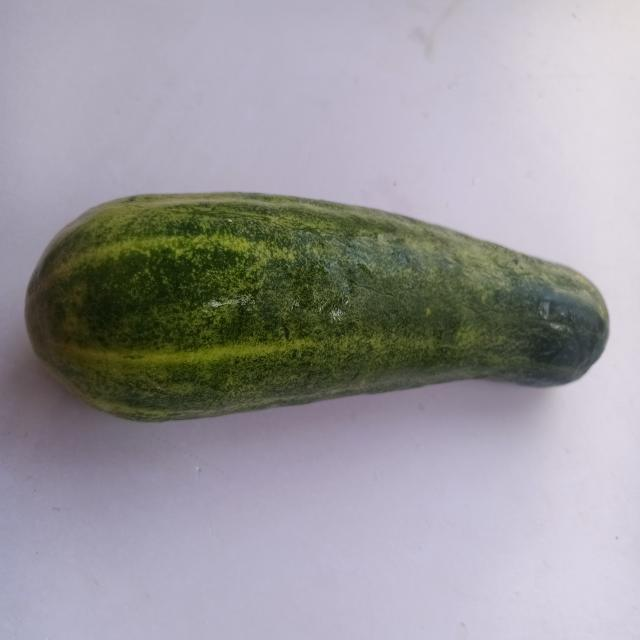Cucumber: (7, 171, 629, 443)
